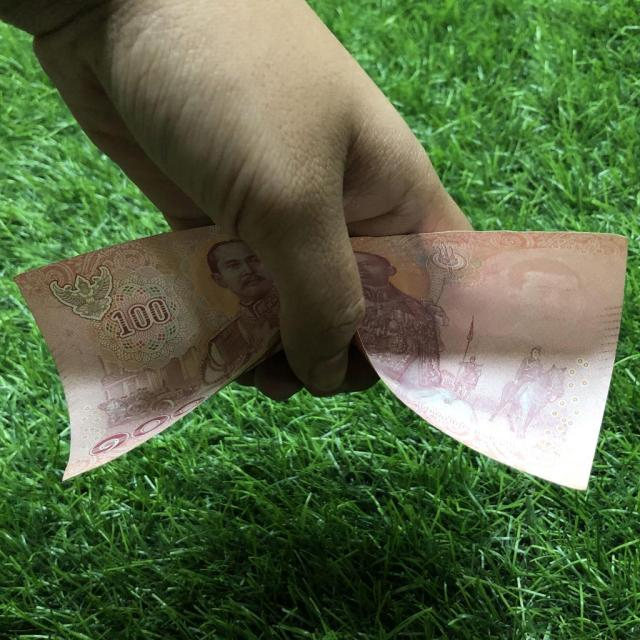THAI100: (349, 229, 626, 489), (16, 226, 281, 479)
